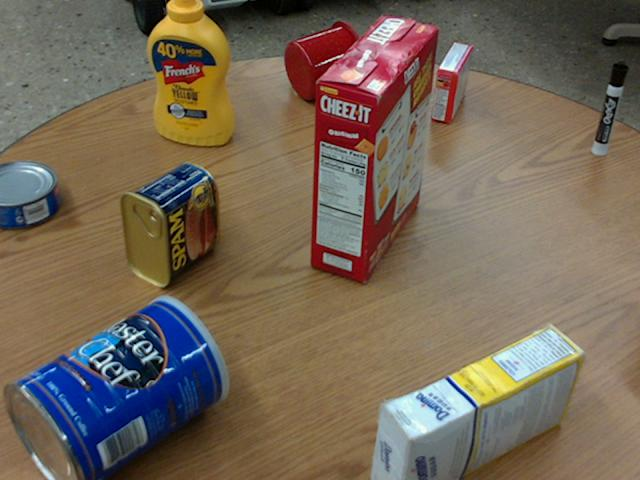cracker_box: (310, 16, 435, 281)
gelatin_box: (431, 43, 474, 123)
large_marker: (592, 62, 626, 154)
master_chef_can: (4, 295, 227, 479)
mug: (283, 19, 367, 99)
mustard_bottle: (147, 0, 232, 144)
potted_meat_can: (118, 160, 216, 286)
sugar_box: (369, 323, 582, 479)
tuna_fish_can: (0, 160, 60, 227)
